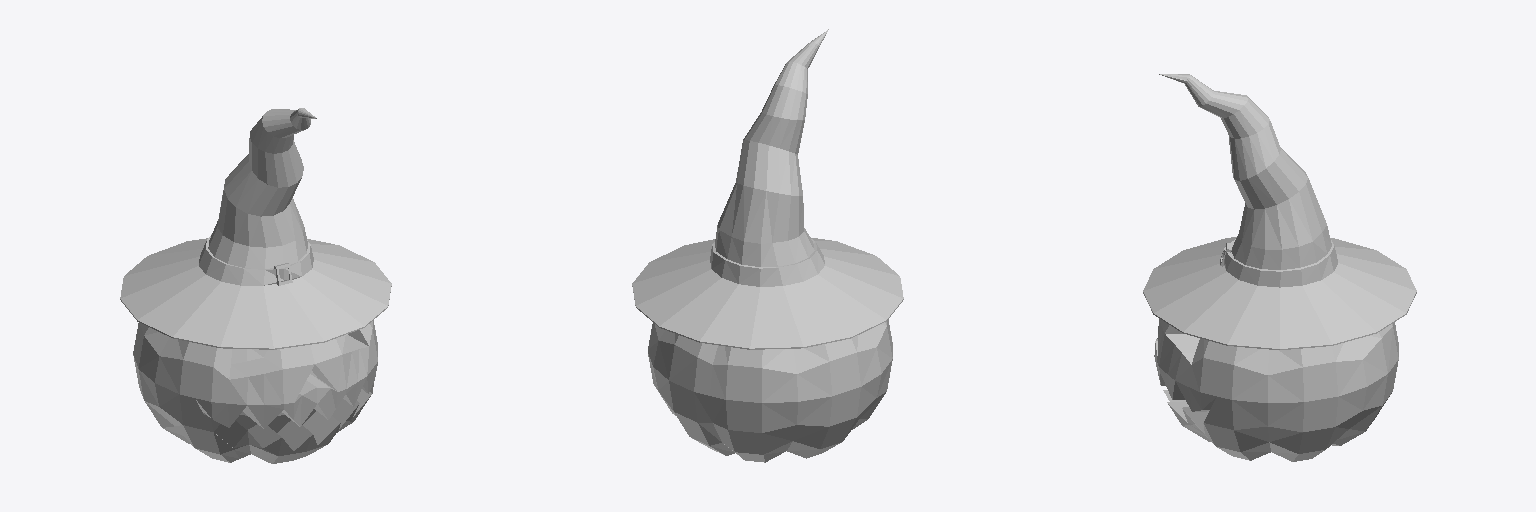
File: citrouille.obj
3 views of the same model, side by side, from view 1: azimuth 30°, elevation 25°; view 2: azimuth 150°, elevation 25°; view 3: azimuth 270°, elevation 25° (orthographic).
Parts seen in each view (by area): view 1: pumpkin_with_witch_hatOBJ; view 2: pumpkin_with_witch_hatOBJ; view 3: pumpkin_with_witch_hatOBJ.
Boxes of the visible parts, x1=… form: pumpkin_with_witch_hatOBJ: x1=120, y1=108, x2=391, y2=463; pumpkin_with_witch_hatOBJ: x1=632, y1=29, x2=903, y2=462; pumpkin_with_witch_hatOBJ: x1=1143, y1=74, x2=1416, y2=461.
Size of the model in its own units: 119 by 175 by 119.